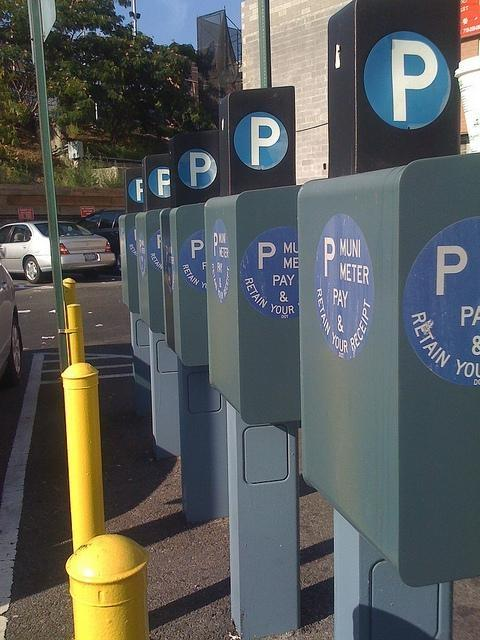car: (1, 220, 116, 286), (0, 266, 23, 378), (76, 208, 125, 256)
